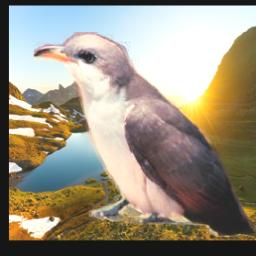Cuckoo: (34, 33, 256, 238)
